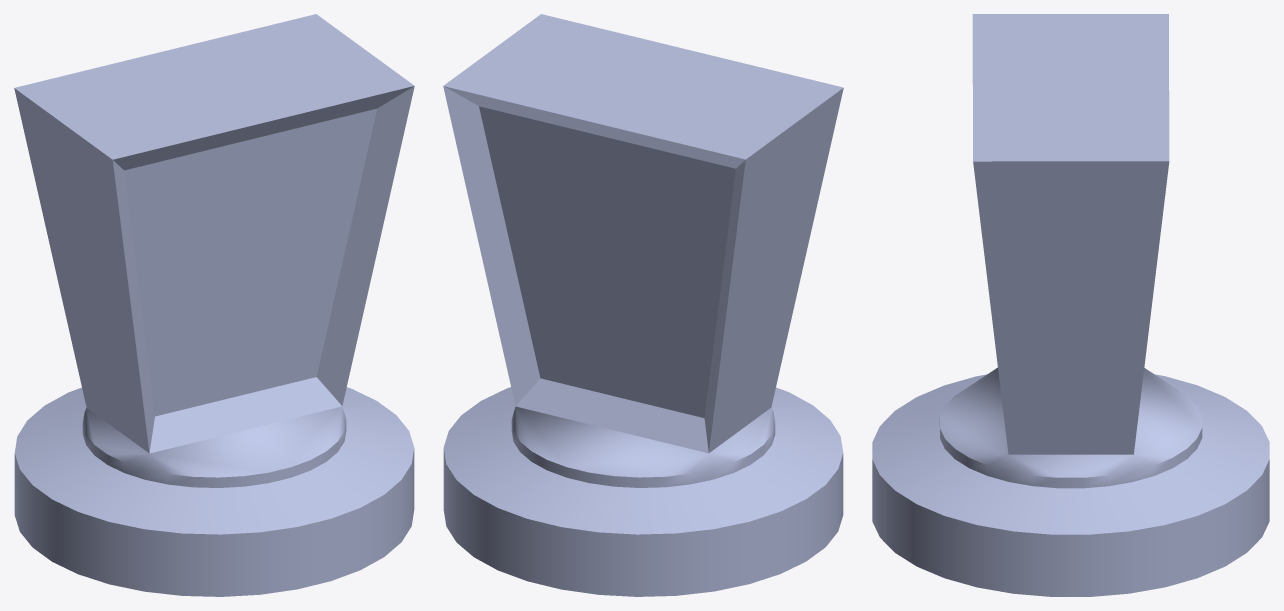
File: wall.glb
3 views of the same model, side by side, from view 1: azimuth 30°, elevation 25°; view 2: azimuth 150°, elevation 25°; view 3: azimuth 270°, elevation 25° (orthographic).
Visible parts, largest first — view 1: Wall; view 2: Wall; view 3: Wall.
Part boxes in pixels (bbox=[...]): Wall: bbox=[14, 14, 414, 596]; Wall: bbox=[443, 14, 843, 596]; Wall: bbox=[872, 14, 1269, 596].
Size of the model in its own units: 1.39 by 1.64 by 1.39.
